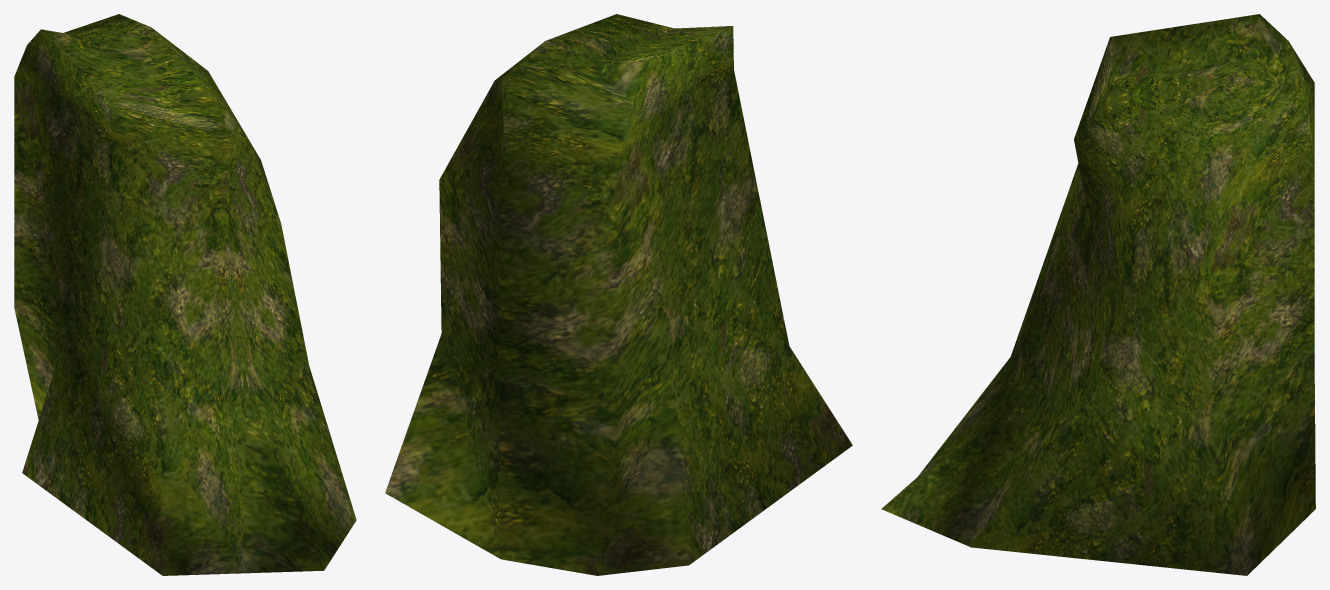
Rendered from INST_OH_ROCK_04.fbx.
3 views of the same model, side by side, from view 1: azimuth 30°, elevation 25°; view 2: azimuth 150°, elevation 25°; view 3: azimuth 270°, elevation 25° (orthographic). The views are drawn at different scales.
Visible parts, largest first — view 1: INST_OH_ROCK_04; view 2: INST_OH_ROCK_04; view 3: INST_OH_ROCK_04.
Part boxes in pixels (x1,y1,x2,y2): INST_OH_ROCK_04: [14, 14, 356, 575]; INST_OH_ROCK_04: [385, 14, 852, 575]; INST_OH_ROCK_04: [881, 14, 1315, 575].
Size of the model in its own units: 9947 by 15822 by 14009.
Materials: 1 (1 with a texture image).
